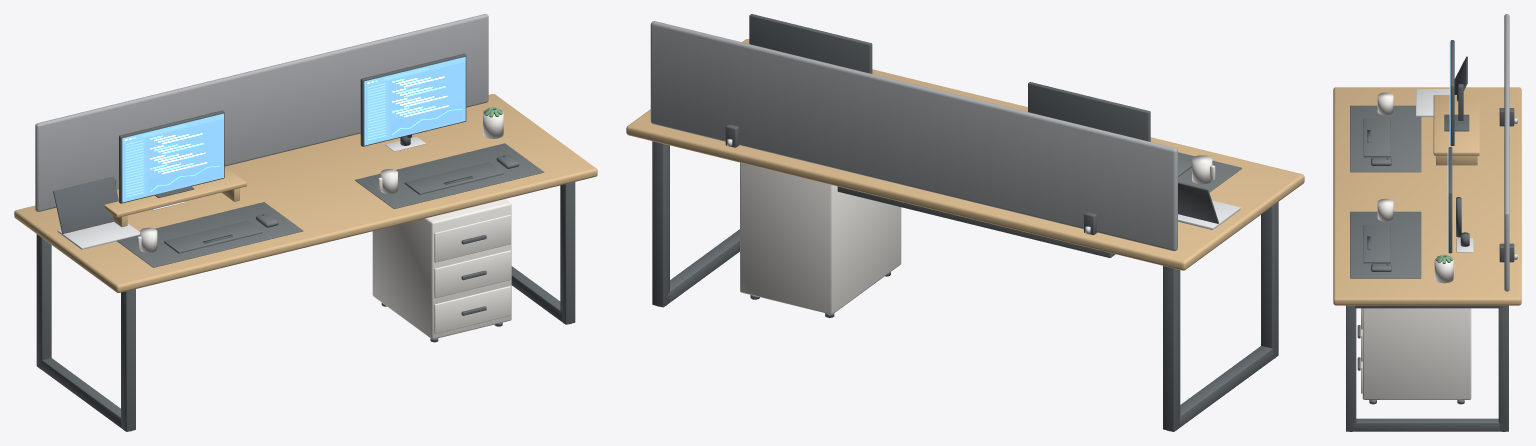
The model's file is workstation.desk-2p.glb.
The picture shows the model from 3 angles, left to right: view 1: azimuth 30°, elevation 25°; view 2: azimuth 150°, elevation 25°; view 3: azimuth 270°, elevation 25°; orthographic projection. The views are drawn at different scales.
Visible parts, largest first — view 1: workstation.desk-2p; view 2: workstation.desk-2p; view 3: workstation.desk-2p.
Part boxes in pixels (x1,y1,x2,y2): workstation.desk-2p: (14,14,597,431); workstation.desk-2p: (626,14,1304,431); workstation.desk-2p: (1333,14,1521,431).
Size of the model in its own units: 2.4 by 1.16 by 0.9.
Materials: 9 (1 with a texture image).
